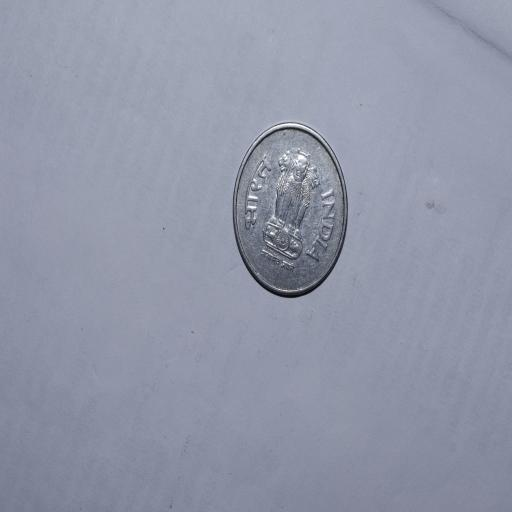rupee1: (226, 121, 344, 301)
